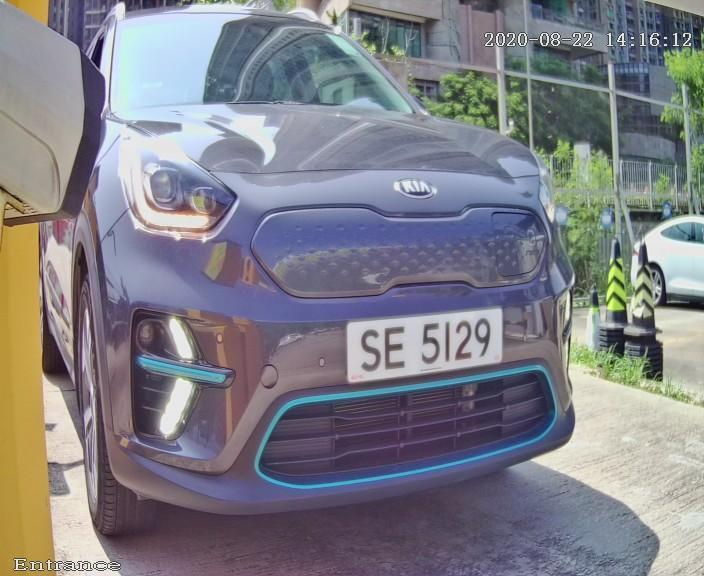License Plate: (337, 299, 510, 389)
